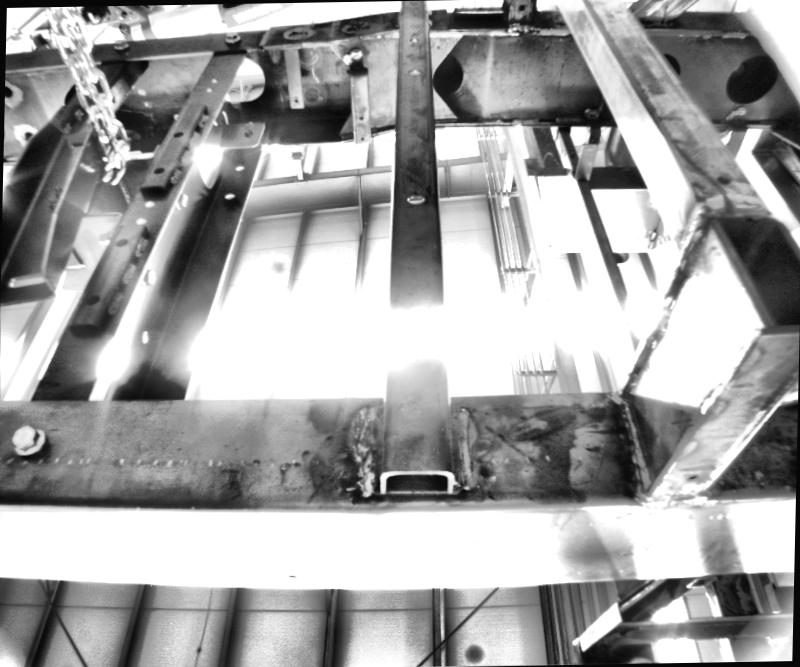bolt: (8, 423, 52, 460), (138, 264, 158, 287), (173, 192, 190, 210), (226, 31, 241, 43), (112, 39, 128, 49)
bracket: (343, 67, 373, 145), (205, 112, 266, 150), (282, 46, 308, 110)
hole: (403, 192, 426, 204), (86, 292, 100, 304), (140, 327, 148, 345), (408, 67, 423, 75), (686, 472, 698, 482), (222, 190, 236, 198), (135, 215, 147, 224), (144, 198, 155, 207), (116, 238, 128, 246), (716, 174, 726, 182), (409, 35, 419, 43), (172, 130, 183, 136), (235, 163, 244, 169), (154, 166, 162, 172), (358, 112, 364, 118), (519, 3, 524, 9), (292, 98, 299, 102), (360, 134, 364, 139)
